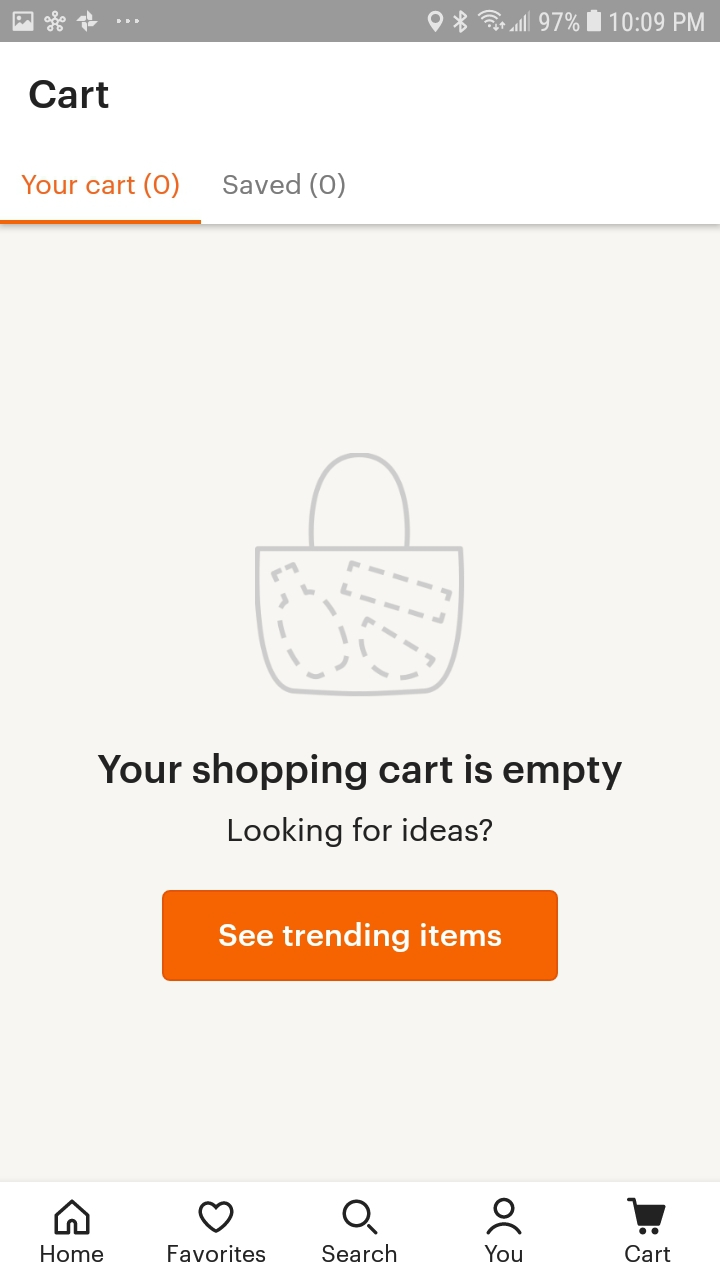Icon: (626, 1197, 666, 1235), (486, 1197, 523, 1236), (54, 1198, 91, 1235), (342, 1198, 379, 1235), (199, 1201, 235, 1234)
Image: (255, 453, 466, 697)
Text: (98, 753, 623, 792), (229, 816, 493, 848), (22, 173, 180, 199), (223, 172, 346, 199), (30, 80, 110, 110), (168, 1244, 266, 1263), (321, 1243, 397, 1263), (42, 1245, 105, 1263), (624, 1244, 671, 1263), (484, 1245, 523, 1263)
TextButton: (162, 890, 559, 982)
UpperTaskBar: (1, 1, 720, 43)
